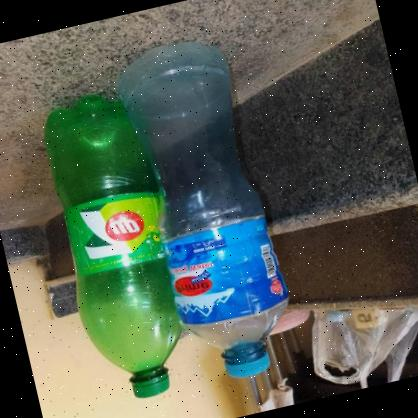bottle: (108, 22, 332, 392), (23, 78, 204, 416)
cap: (122, 365, 178, 404), (219, 346, 277, 382)
label: (158, 203, 291, 329), (57, 184, 166, 280)
